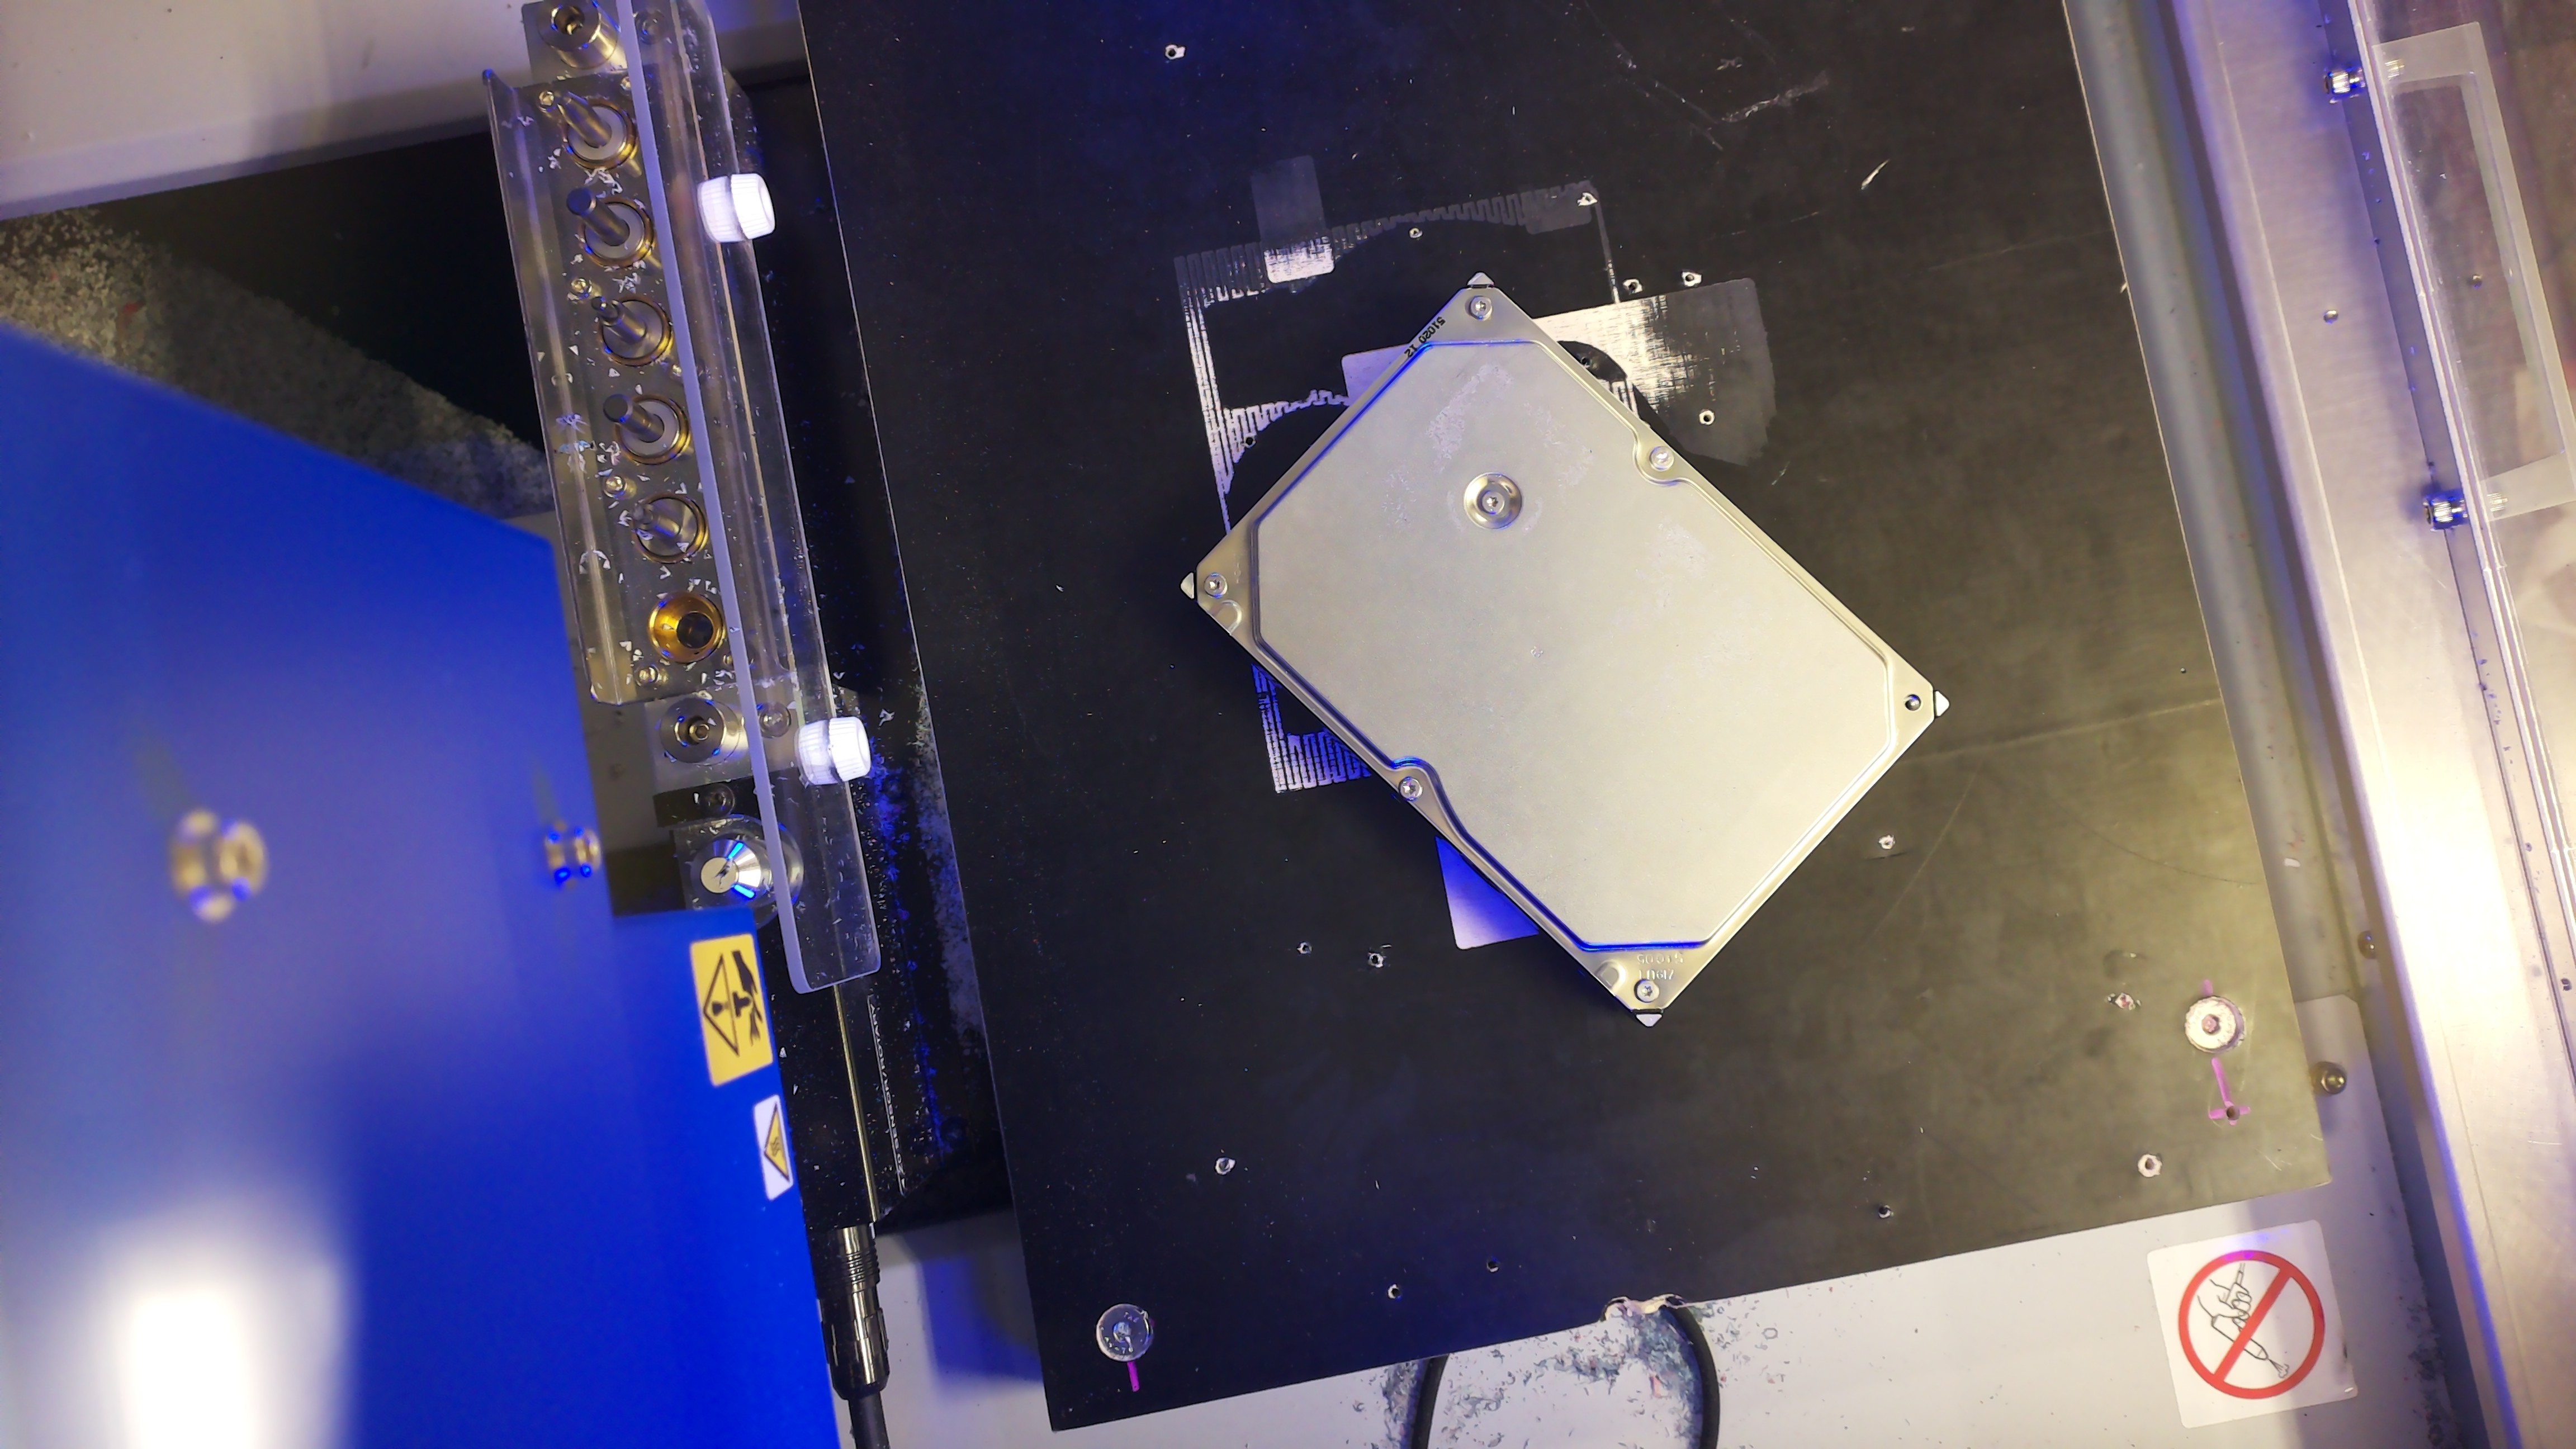Hole: (1904, 694, 1921, 711)
Screw: (1649, 446, 1675, 471), (1203, 571, 1228, 596), (1468, 295, 1493, 320), (1635, 980, 1660, 1003), (1398, 777, 1422, 800), (1481, 492, 1504, 513)
